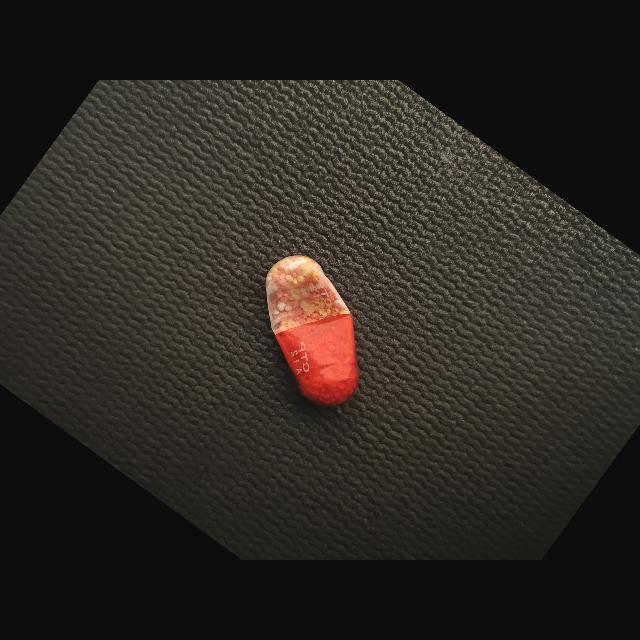Defective Capsule: (266, 255, 358, 406)
